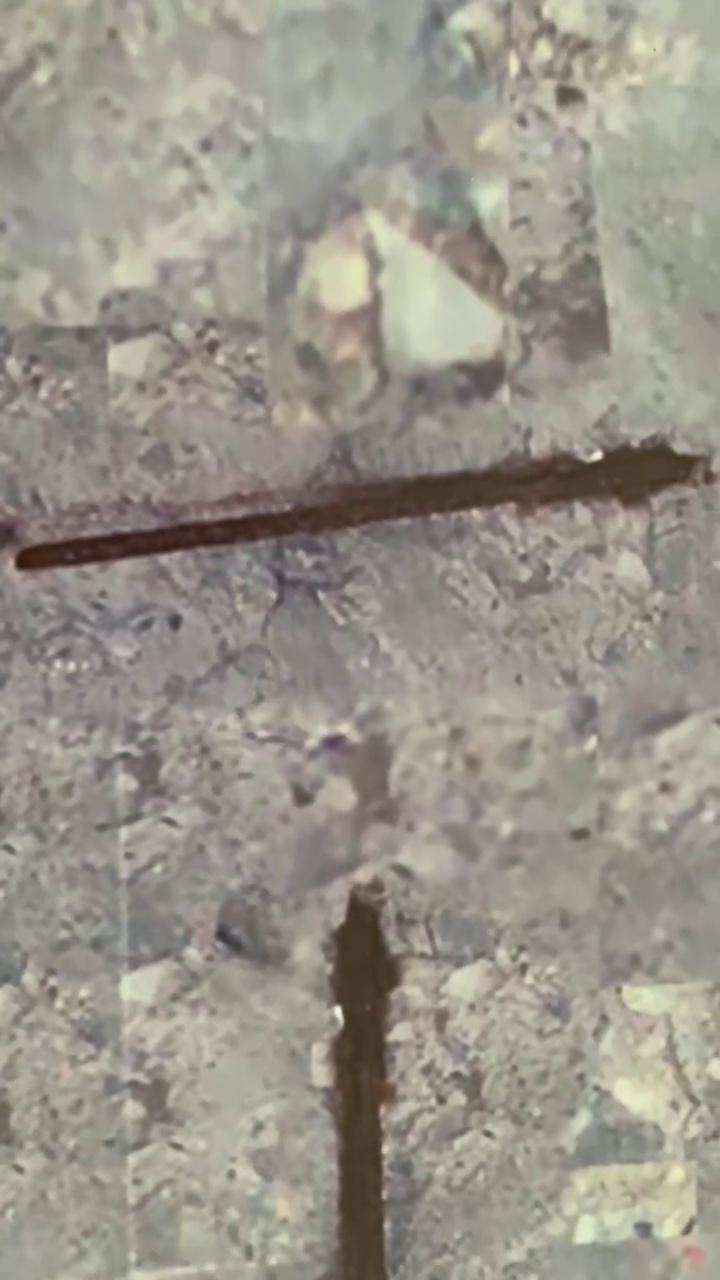Exposed reinforcement: (13, 442, 707, 573), (330, 883, 402, 1280)
